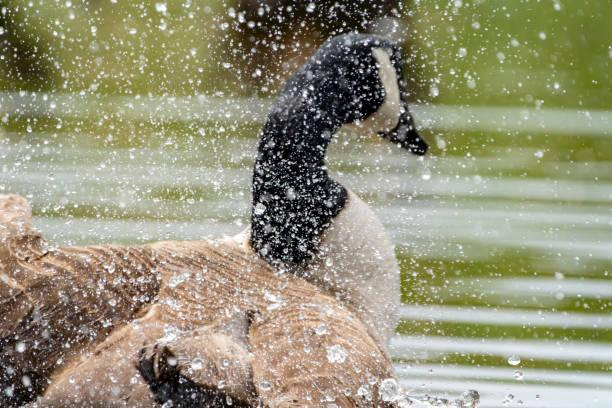Canadian-Goose: (2, 27, 431, 404)
